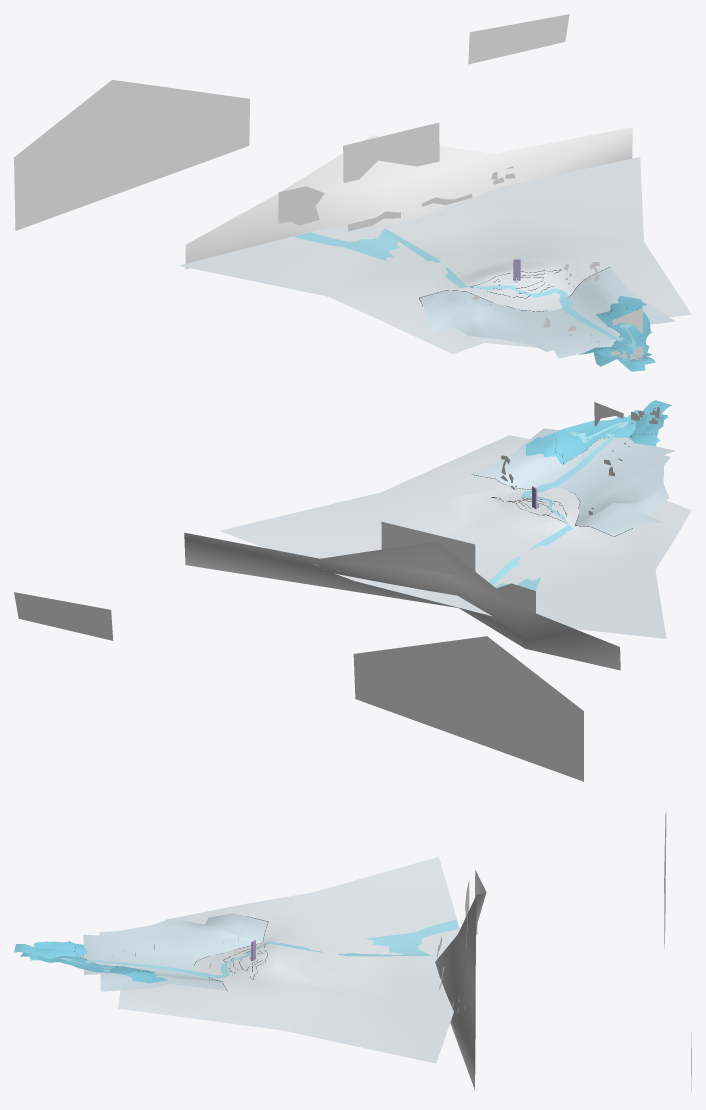
The model's file is landscape3.glb.
3 renders of one model, top to bottom at view 1: azimuth 30°, elevation 25°; view 2: azimuth 150°, elevation 25°; view 3: azimuth 270°, elevation 25°, orthographic. The views are drawn at different scales.
Parts seen in each view (by area): view 1: LANDSCAPE_3, mountain2, mountain1, LANDSCAPE_2, mountainClouds, distantRocks, RIVER_LINES, LANDSCAPE_1, crystals, shroomGroup1; view 2: LANDSCAPE_3, mountain2, mountain1, LANDSCAPE_2, LANDSCAPE_1, distantRocks, mountainClouds, RIVER_LINES, crystals; view 3: LANDSCAPE_3, LANDSCAPE_2, mountain1, RIVER_LINES, LANDSCAPE_1.
Part boxes in pixels (x1,y1,x2,y2): LANDSCAPE_3: [179, 157, 691, 353]; mountain2: [14, 80, 249, 230]; mountain1: [185, 127, 632, 268]; LANDSCAPE_2: [419, 267, 675, 358]; mountainClouds: [343, 122, 439, 182]; distantRocks: [468, 14, 569, 64]; RIVER_LINES: [293, 228, 635, 348]; LANDSCAPE_1: [579, 296, 655, 371]; crystals: [278, 186, 324, 225]; shroomGroup1: [347, 166, 513, 231]; LANDSCAPE_3: [219, 435, 691, 638]; mountain2: [353, 636, 583, 781]; mountain1: [184, 532, 620, 670]; LANDSCAPE_2: [472, 428, 675, 536]; LANDSCAPE_1: [525, 400, 671, 464]; distantRocks: [14, 592, 113, 640]; mountainClouds: [381, 521, 475, 576]; RIVER_LINES: [489, 421, 628, 590]; crystals: [497, 583, 535, 613]; LANDSCAPE_3: [118, 857, 459, 1063]; LANDSCAPE_2: [81, 913, 268, 991]; mountain1: [435, 870, 486, 1089]; RIVER_LINES: [59, 920, 458, 978]; LANDSCAPE_1: [14, 941, 167, 983].
Size of the model in its own units: 131 by 27.7 by 148.
